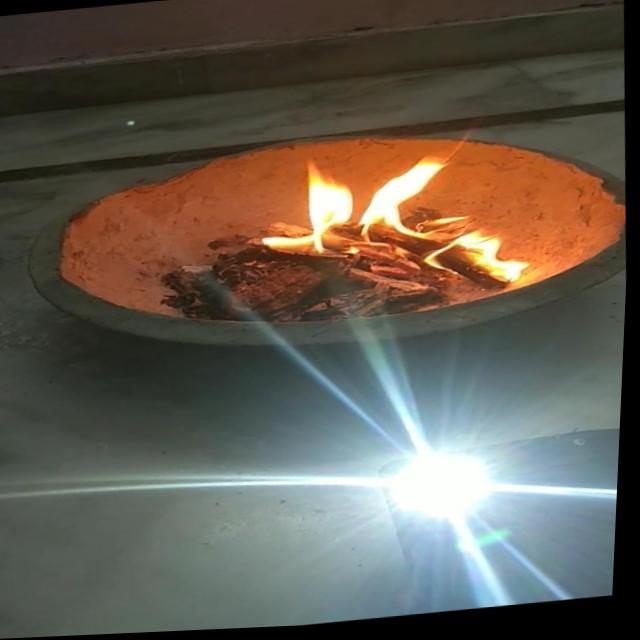fire: (251, 145, 471, 258), (433, 224, 536, 296)
